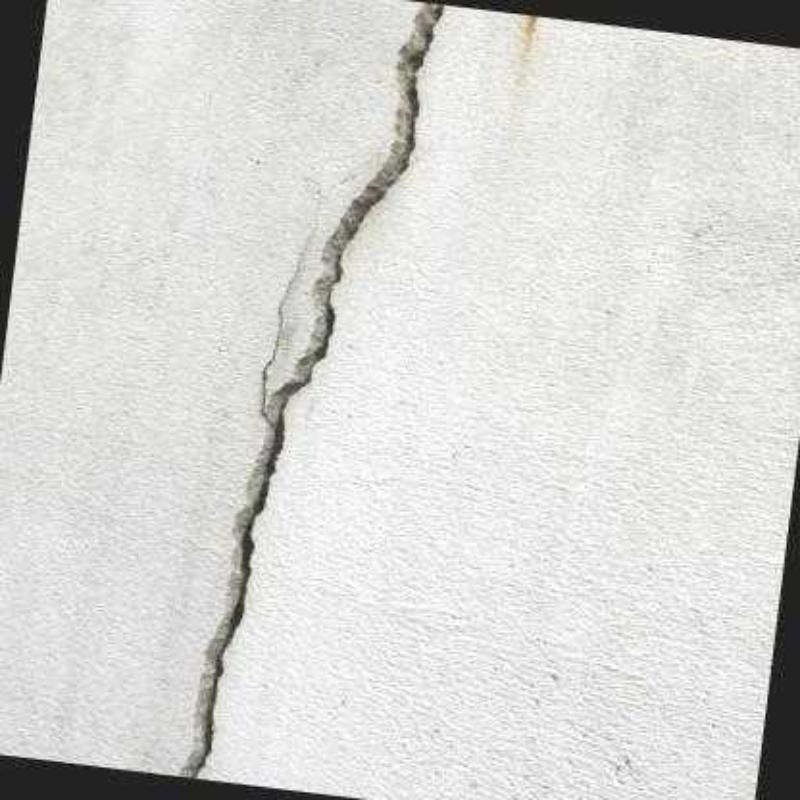crack: (180, 1, 446, 779)
